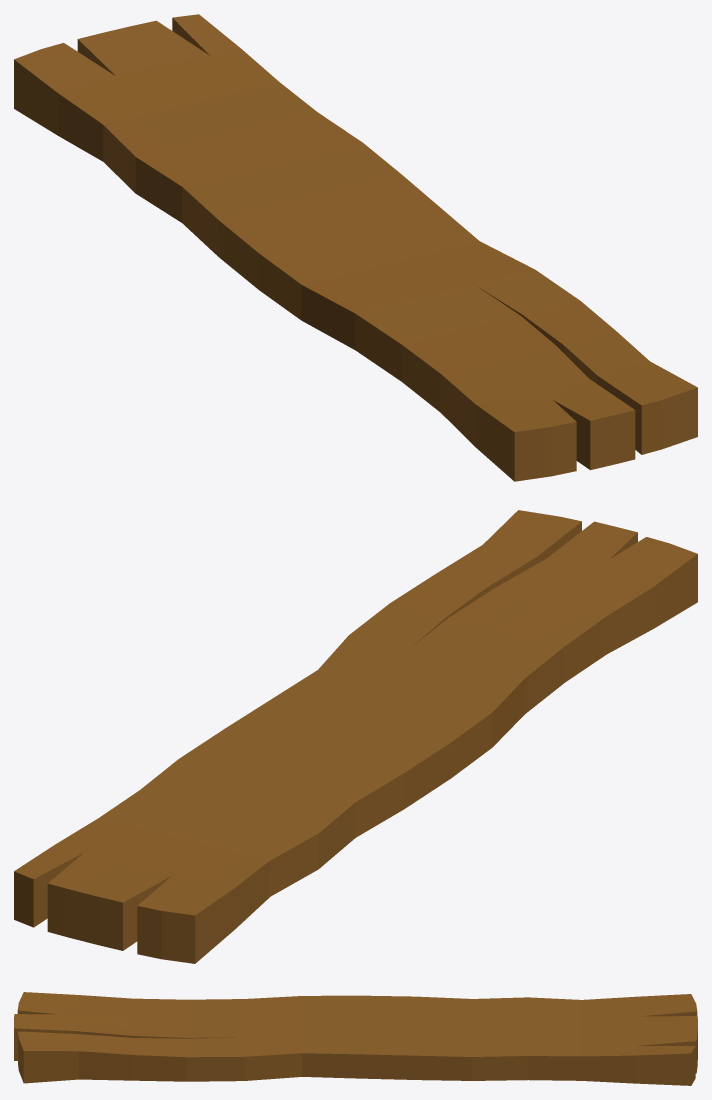
The model's file is plank_2.fbx.
The picture shows the model from 3 angles, top to bottom: view 1: azimuth 30°, elevation 25°; view 2: azimuth 150°, elevation 25°; view 3: azimuth 270°, elevation 25°; orthographic projection. The views are drawn at different scales.
Visible parts, largest first — view 1: Cube.001; view 2: Cube.001; view 3: Cube.001.
Part boxes in pixels (<box>): Cube.001: <box>14,14,697,481</box>; Cube.001: <box>14,510,697,963</box>; Cube.001: <box>14,992,697,1085</box>.
Size of the model in its own units: 46.21 by 11.34 by 215.
